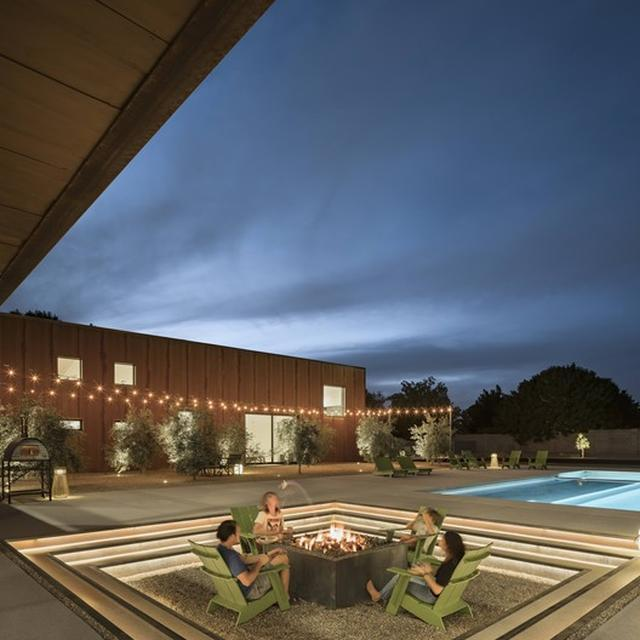building: (0, 309, 376, 465)
